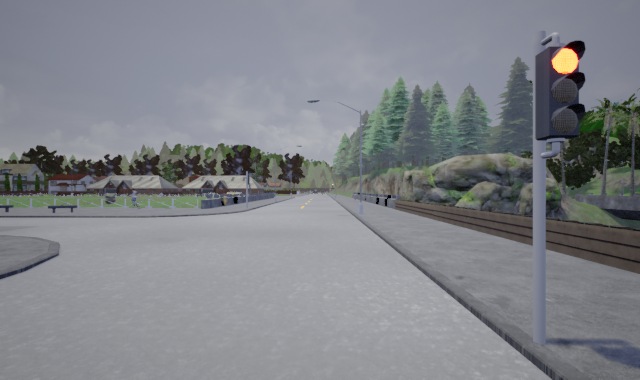pedestrian: (127, 186, 139, 208)
